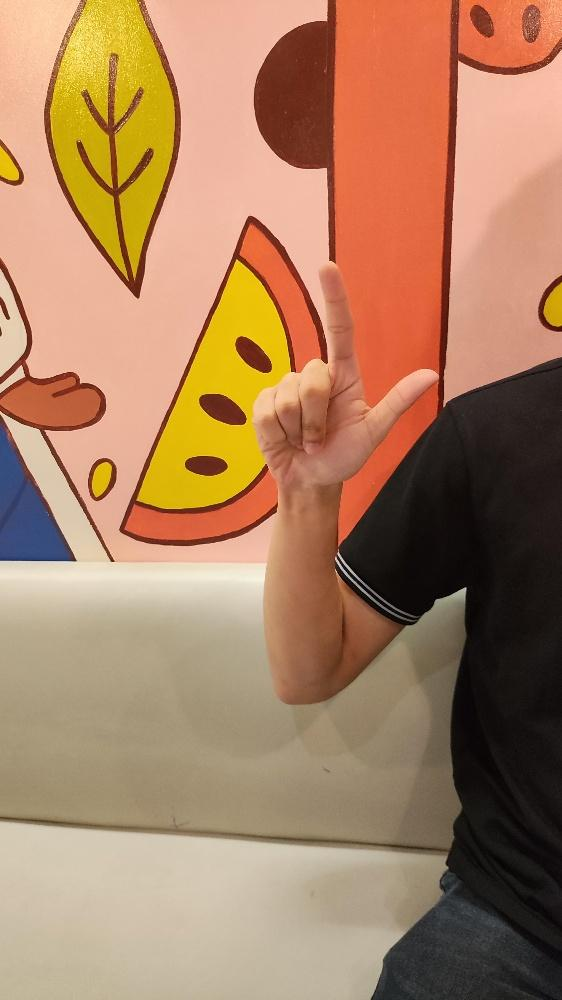l: (249, 257, 441, 489)
